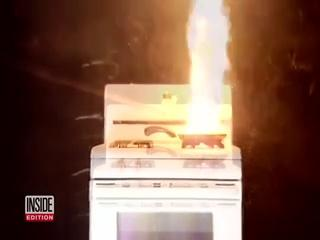Fire: (178, 82, 222, 162)
